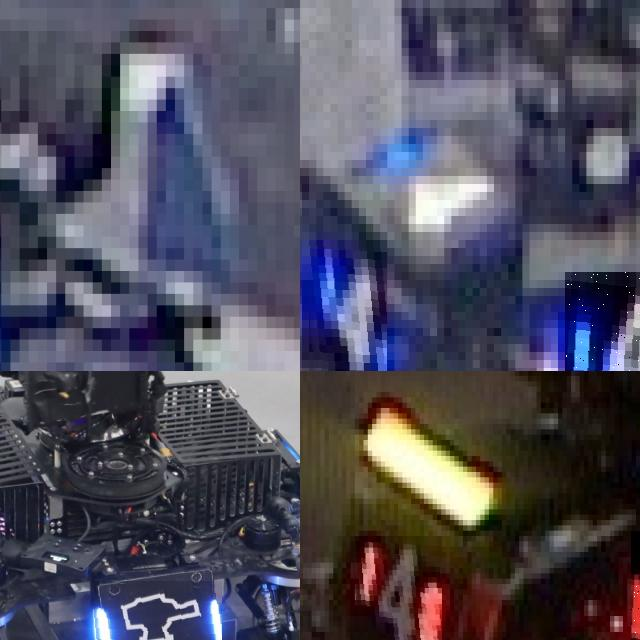B4: (301, 240, 387, 371), (565, 272, 640, 371)
Bs: (91, 581, 222, 640)
R4: (350, 535, 441, 640)
